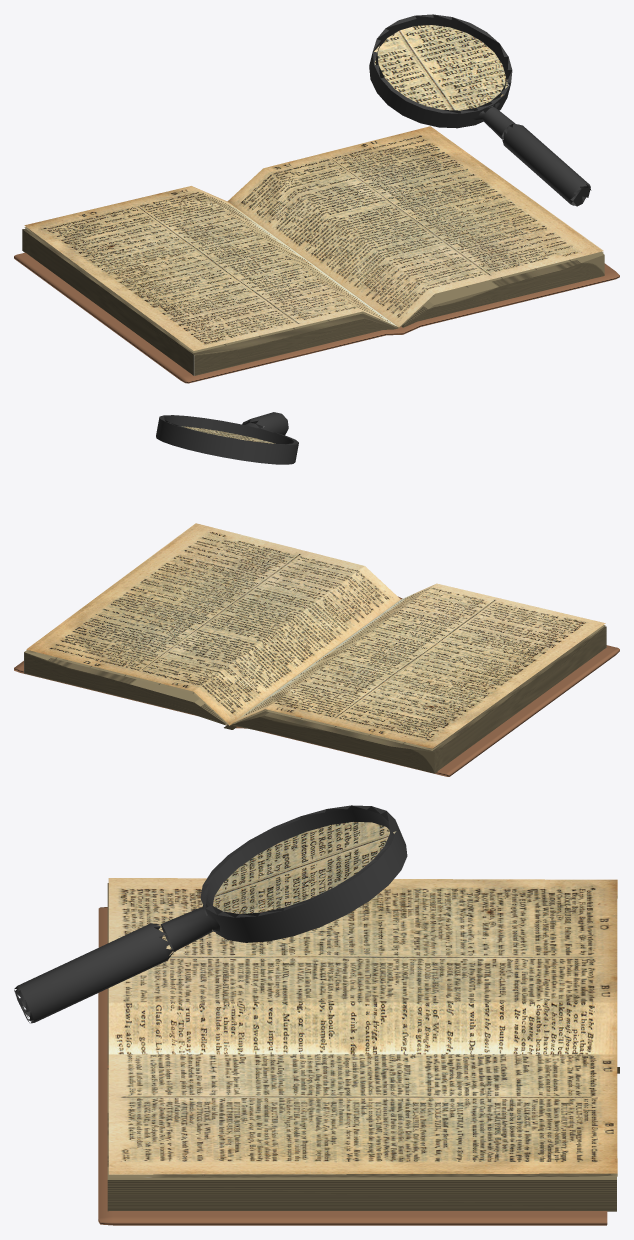
The model's file is book.fbx.
3 renders of one model, top to bottom at view 1: azimuth 30°, elevation 25°; view 2: azimuth 150°, elevation 25°; view 3: azimuth 270°, elevation 25°, orthographic. The views are drawn at different scales.
Parts seen in each view (by area): view 1: book_with_magnif; view 2: book_with_magnif; view 3: book_with_magnif.
Boxes of the visible parts, x1=… form: book_with_magnif: x1=14, y1=14, x2=619, y2=383; book_with_magnif: x1=14, y1=412, x2=619, y2=776; book_with_magnif: x1=14, y1=805, x2=619, y2=1225.
Size of the model in its own units: 25.63 by 12.3 by 20.84.
Materials: 8 (5 with a texture image).
